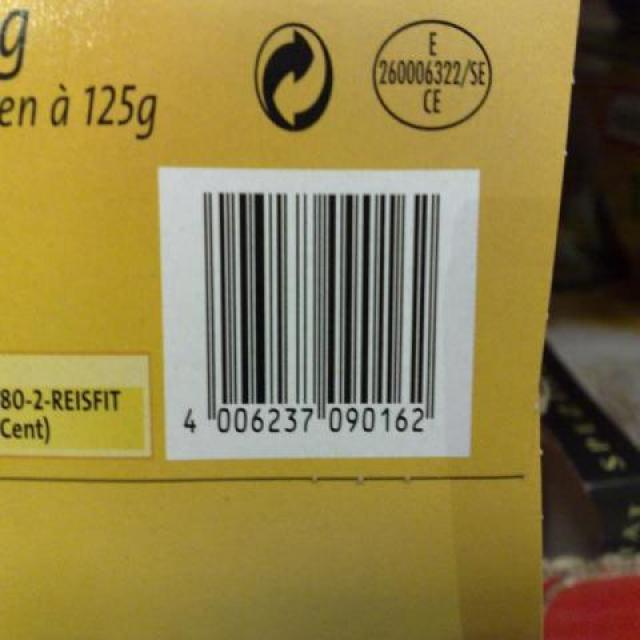Barcode: (159, 165, 481, 459)
